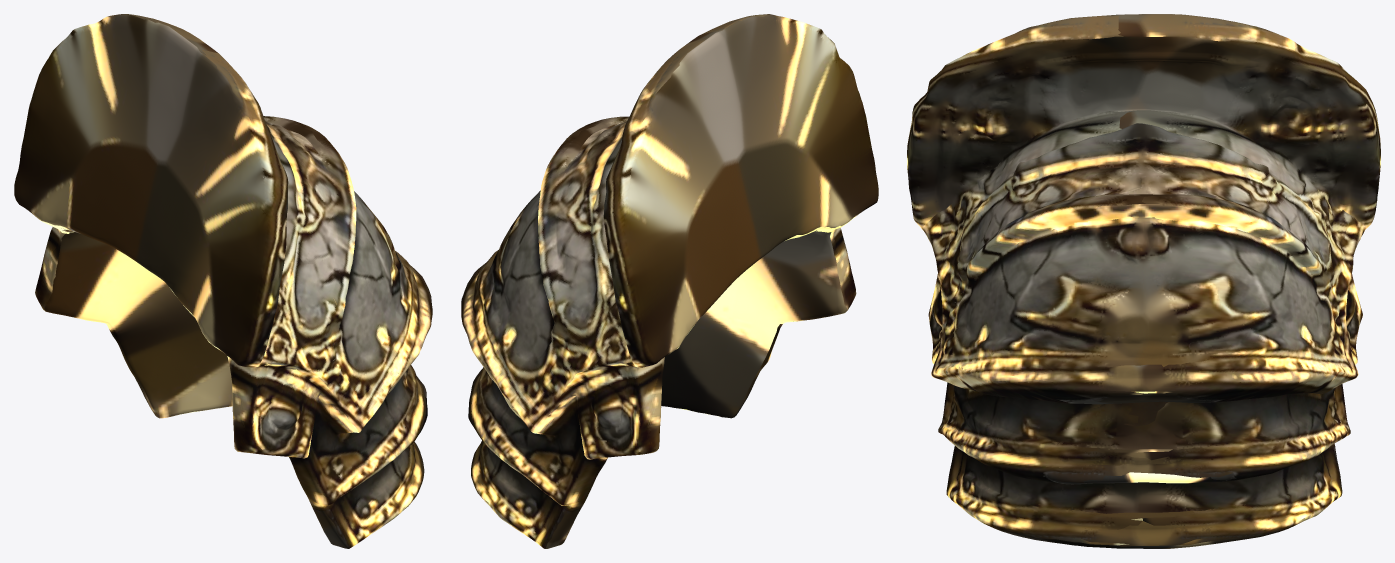
The model's file is aegis_pauldron.glb.
3 views of the same model, side by side, from view 1: azimuth 30°, elevation 25°; view 2: azimuth 150°, elevation 25°; view 3: azimuth 270°, elevation 25° (orthographic).
Parts seen in each view (by area): view 1: geometry_0; view 2: geometry_0; view 3: geometry_0.
Boxes of the visible parts, x1,y1,x2,y2 form: geometry_0: (14,14,432,548); geometry_0: (461,14,878,548); geometry_0: (907,14,1380,548).
Bounding box in the file's own units: 0.2041 × 0.3199 × 0.3023.
1 material, 1 textured.
